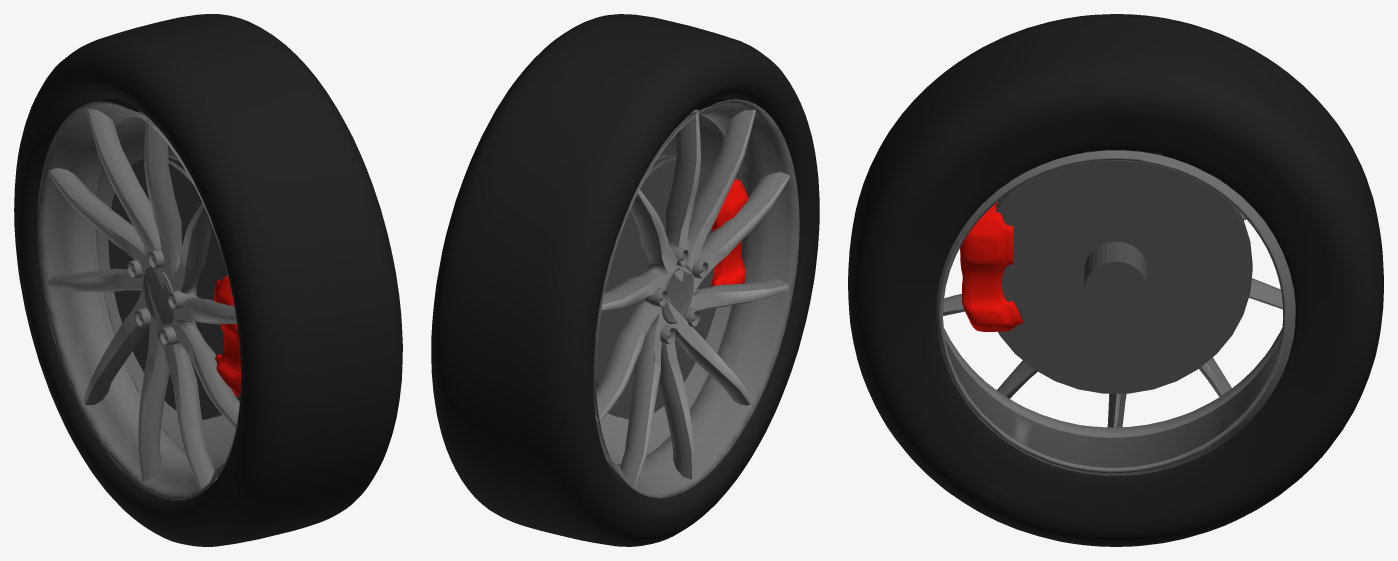
Rendered from wheel.glb.
3 views of the same model, side by side, from view 1: azimuth 30°, elevation 25°; view 2: azimuth 150°, elevation 25°; view 3: azimuth 270°, elevation 25° (orthographic).
Visible parts, largest first — view 1: FL.002; view 2: FL.002; view 3: FL.002.
Part boxes in pixels (box(x1,y1,x2,y2)): FL.002: box(14, 14, 402, 546); FL.002: box(431, 14, 819, 546); FL.002: box(848, 14, 1383, 546).
Bounding box in the file's own units: 0.3247 × 0.9644 × 0.9645.
